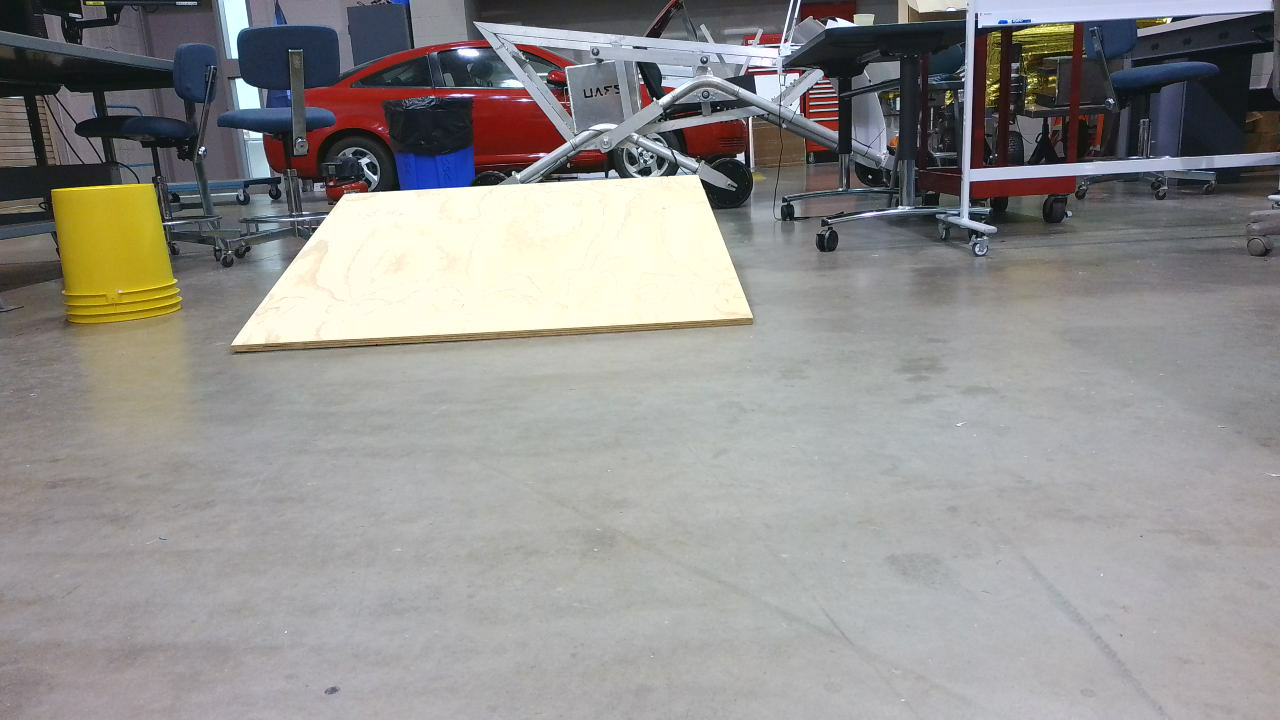concrete_block: (227, 176, 765, 364)
yellow_bucket: (51, 186, 189, 332)
